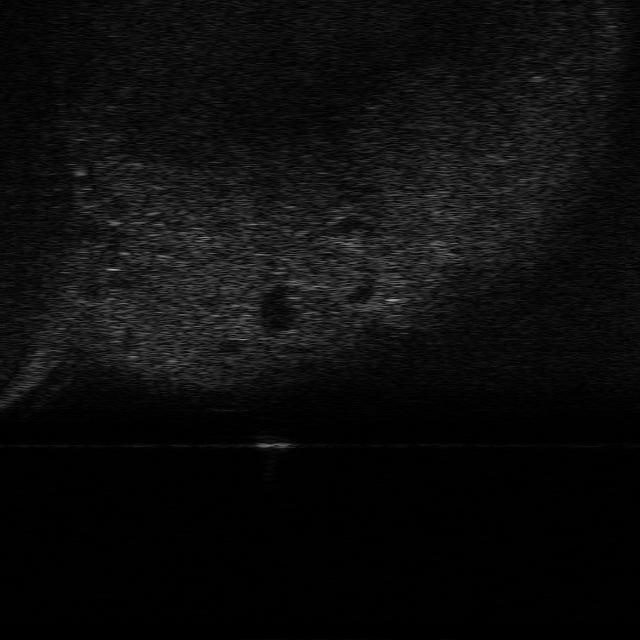cube: (252, 431, 292, 454)
